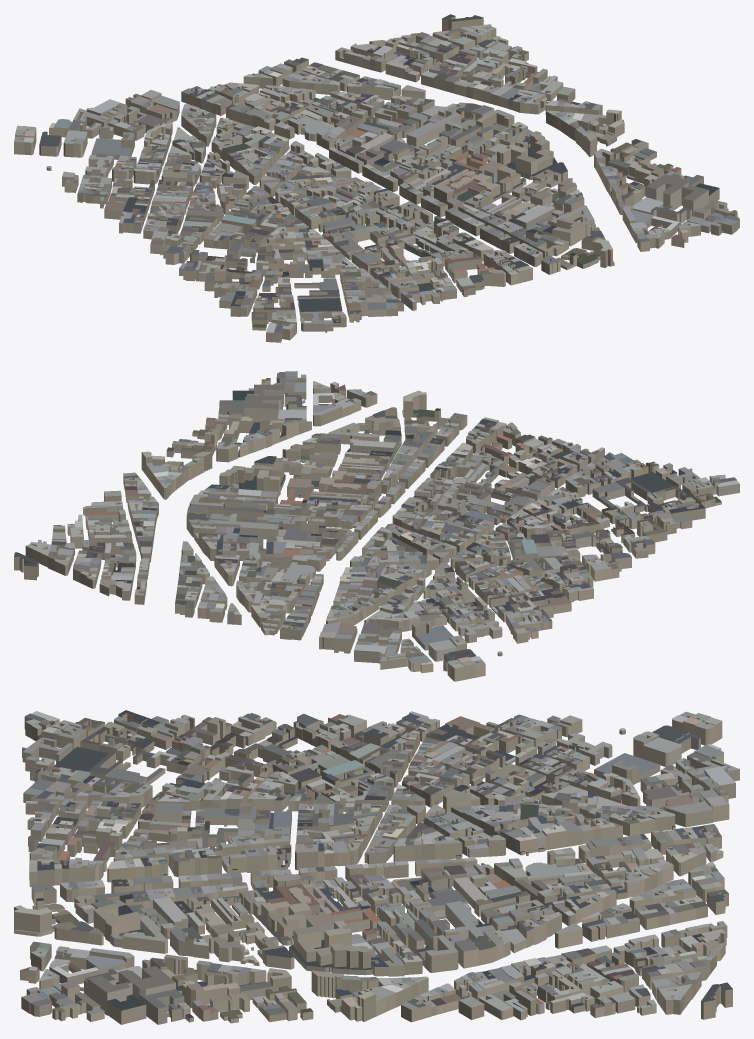
The picture shows the model from 3 angles, top to bottom: view 1: azimuth 30°, elevation 25°; view 2: azimuth 150°, elevation 25°; view 3: azimuth 270°, elevation 25°; orthographic projection. The views are drawn at different scales.
Parts seen in each view (by area): view 1: tuile; view 2: tuile; view 3: tuile.
Part boxes in pixels (x1,y1,x2,y2): tuile: [14, 14, 739, 342]; tuile: [14, 371, 739, 681]; tuile: [14, 710, 739, 1024].
Bounding box in the file's own units: 1034 × 43.84 × 1053.
